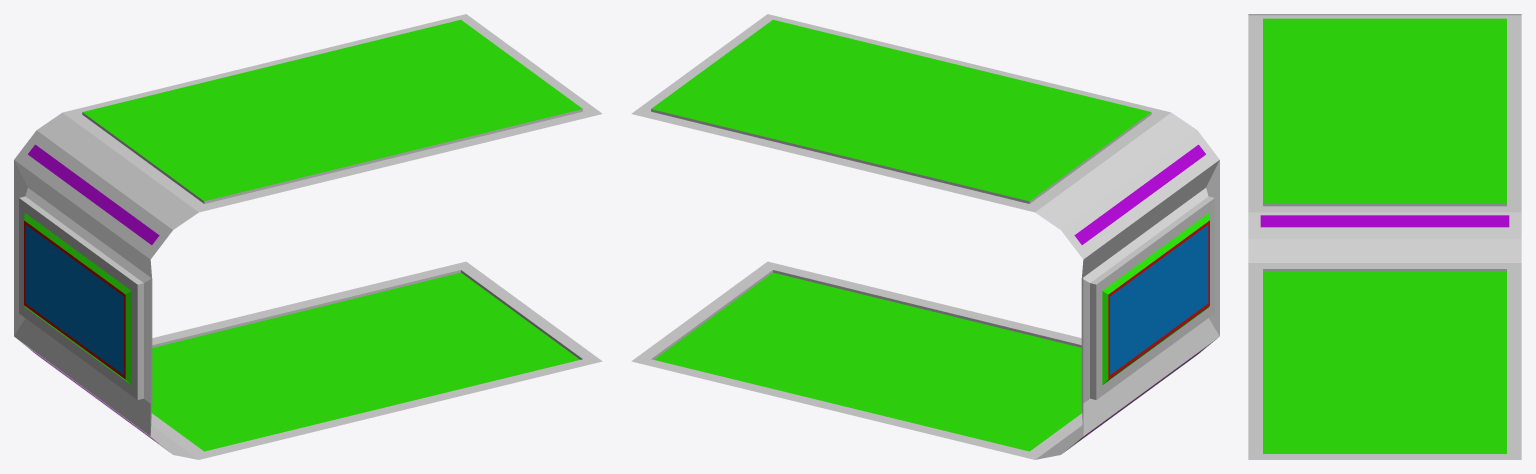
Rendered from Scene_background_1.fbx.
The picture shows the model from 3 angles, left to right: view 1: azimuth 30°, elevation 25°; view 2: azimuth 150°, elevation 25°; view 3: azimuth 270°, elevation 25°; orthographic projection.
Visible parts, largest first — view 1: Hull; view 2: Hull; view 3: Hull.
Boxes of the visible parts, bbox=[...] form: Hull: bbox=[14, 14, 602, 459]; Hull: bbox=[631, 14, 1219, 459]; Hull: bbox=[1248, 14, 1521, 459].
Bounding box in the file's own units: 194 × 102 × 100.
